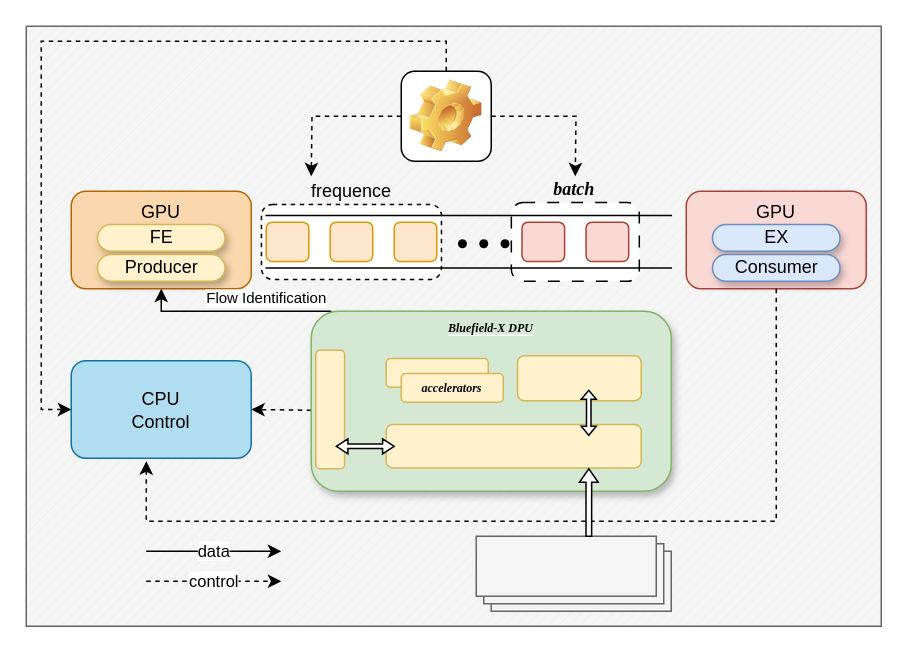
The diagram is 908 pixels wide and 653 high, and some of its shapes have lost their labels. The shapes that lost their labels are listed below. From the top down, each one's centre as x and y in pixels, then its label:
At point 445,115: "Dynamic adjust".
At point 578,377: "Arm Subsystem".
At point 329,409: "PCIE".
At point 513,445: "eSwitch ASIC Sequential Pipe".
At point 573,573: "Origin Packets".
